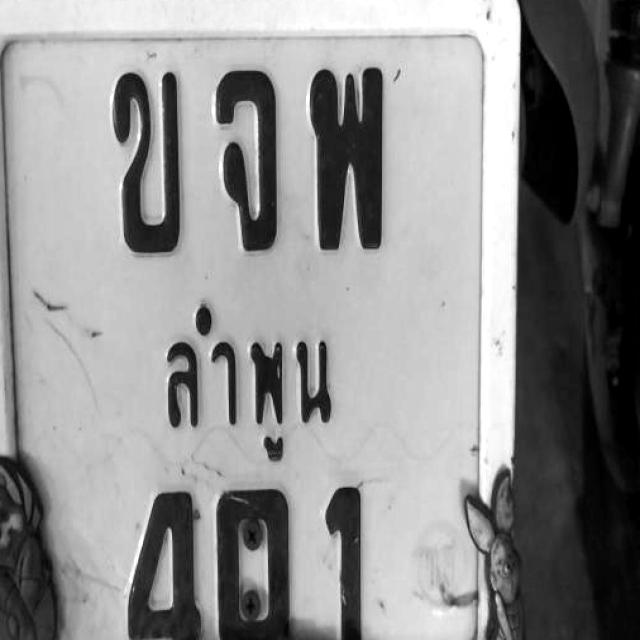letters: (62, 56, 205, 271), (297, 64, 409, 254), (95, 488, 202, 640), (208, 63, 289, 255), (211, 481, 302, 640), (314, 483, 376, 640)
license-plate: (0, 11, 506, 640)
province: (151, 306, 360, 472)
